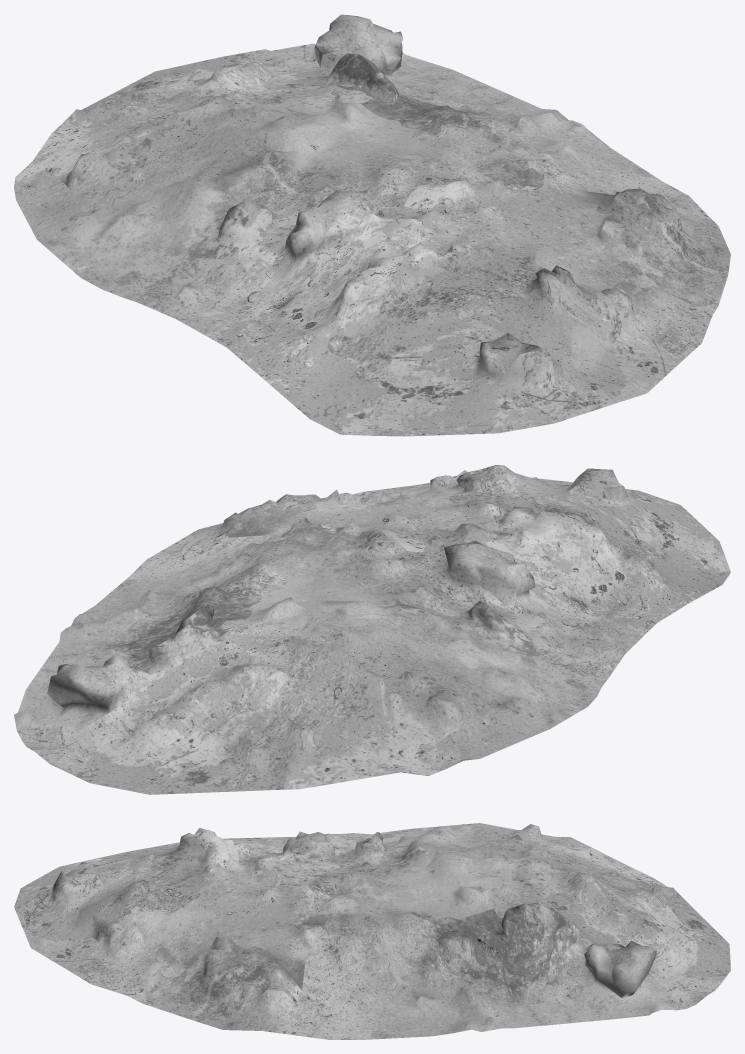
File: SM_GroundPatch_01a.fbx
3 renders of one model, top to bottom at view 1: azimuth 30°, elevation 25°; view 2: azimuth 150°, elevation 25°; view 3: azimuth 270°, elevation 25°, orthographic. The views are drawn at different scales.
Visible parts, largest first — view 1: SM_GroundPatch_01a_LOD0; view 2: SM_GroundPatch_01a_LOD0; view 3: SM_GroundPatch_01a_LOD0.
Boxes of the visible parts, <box> form: SM_GroundPatch_01a_LOD0: <box>14,14,730,436</box>; SM_GroundPatch_01a_LOD0: <box>14,465,730,794</box>; SM_GroundPatch_01a_LOD0: <box>14,823,730,1039</box>.
Size of the model in its own units: 75.4 by 112 by 13.14.
